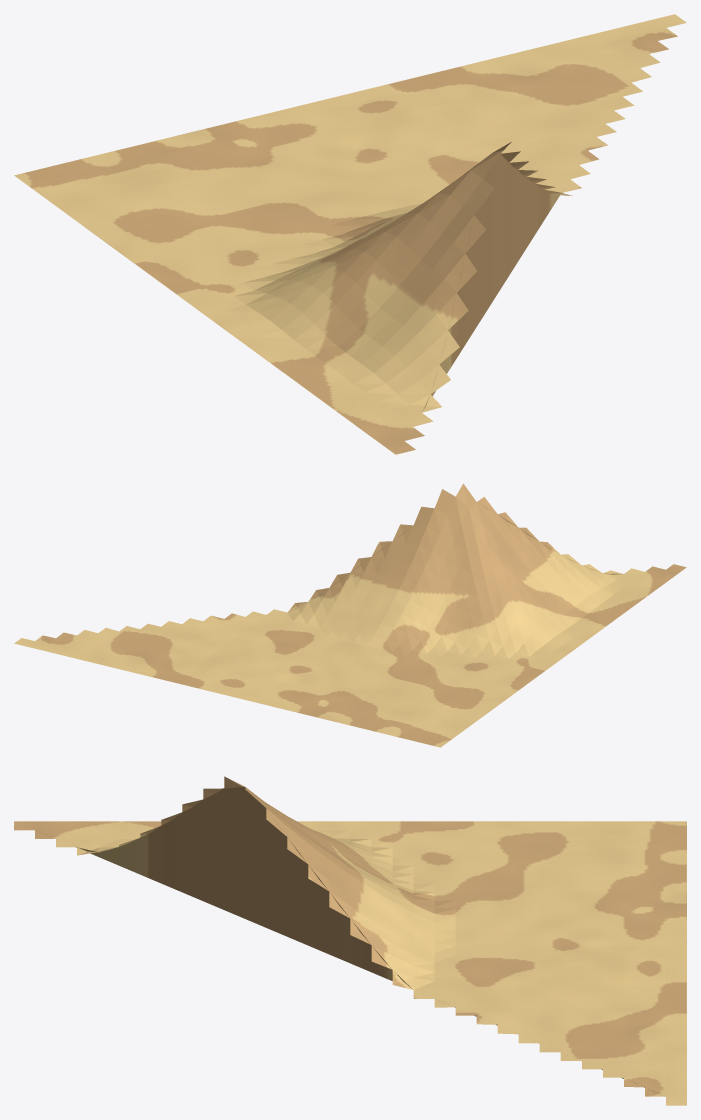
Rendered from Desert_Mountains_07_SW.obj.
The picture shows the model from 3 angles, top to bottom: view 1: azimuth 30°, elevation 25°; view 2: azimuth 150°, elevation 25°; view 3: azimuth 270°, elevation 25°; orthographic projection. The views are drawn at different scales.
Bounding box in the file's own units: 10 × 2.34 × 10.
Materials: 1 (1 with a texture image).
